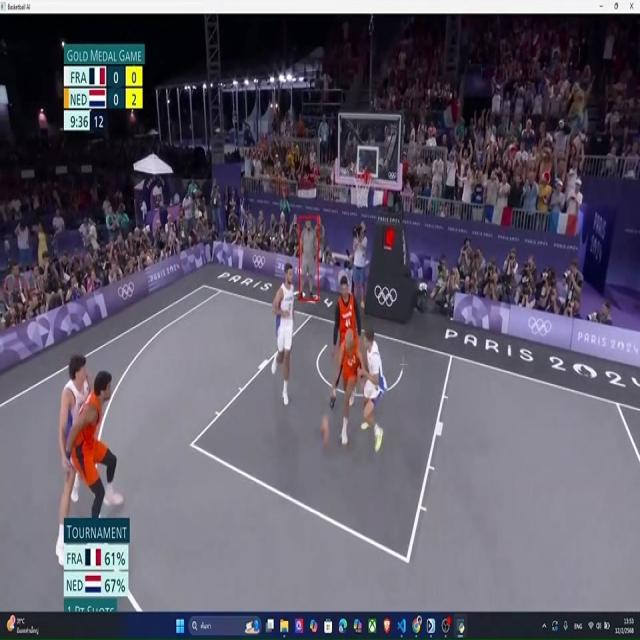basketball: (321, 417, 330, 445)
hoop: (354, 168, 372, 212)
